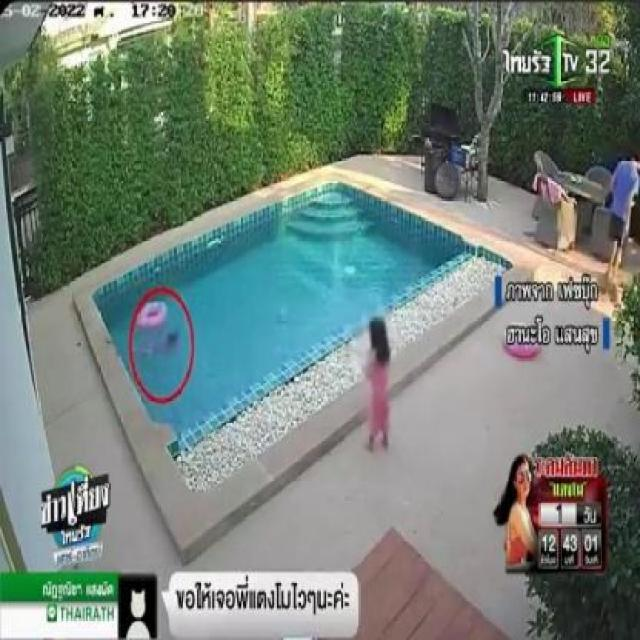drowning: (136, 333, 182, 364)
